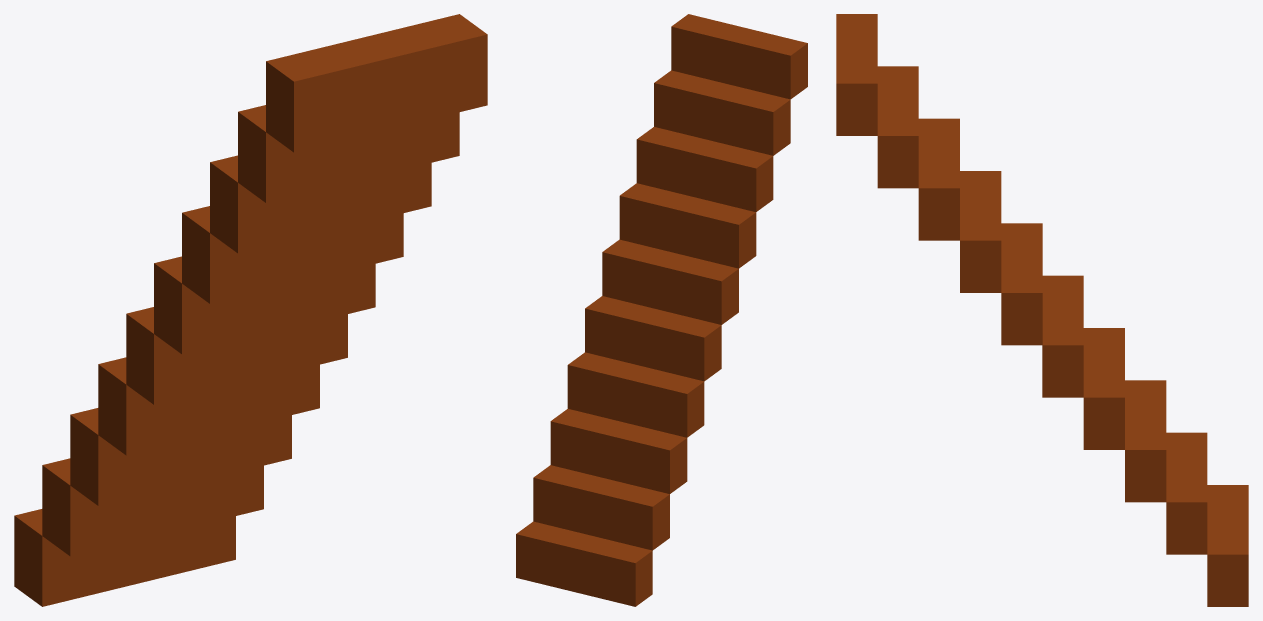
File: stairs-straight.glb
The picture shows the model from 3 angles, left to right: view 1: azimuth 30°, elevation 25°; view 2: azimuth 150°, elevation 25°; view 3: azimuth 270°, elevation 25°; orthographic projection. The views are drawn at different scales.
Size of the model in its own units: 1 by 3.5 by 2.5.
